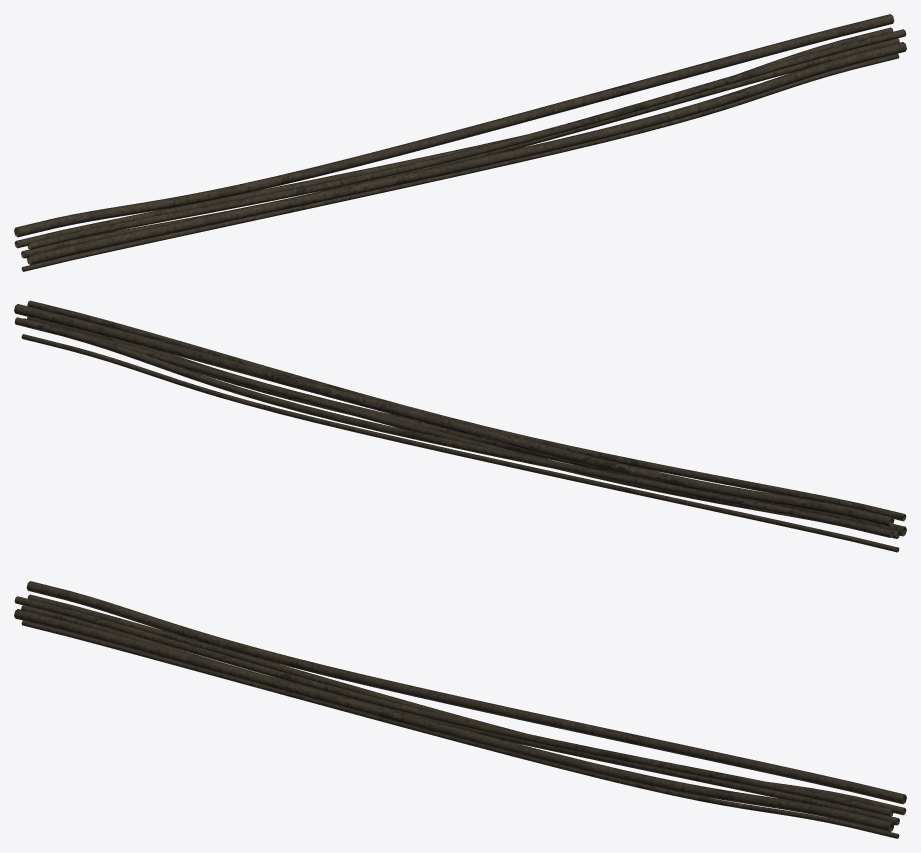
The model's file is wires_hr_5.obj.
The picture shows the model from 3 angles, top to bottom: view 1: azimuth 30°, elevation 25°; view 2: azimuth 150°, elevation 25°; view 3: azimuth 330°, elevation 25°; orthographic projection.
Visible parts, largest first — view 1: wires_hr_5; view 2: wires_hr_5; view 3: wires_hr_5.
Part boxes in pixels (left/top/right/bottom): wires_hr_5: left=14, top=14, right=906, bottom=271; wires_hr_5: left=14, top=300, right=906, bottom=552; wires_hr_5: left=14, top=581, right=906, bottom=838.
Size of the model in its own units: 4 by 0.2216 by 0.14.
